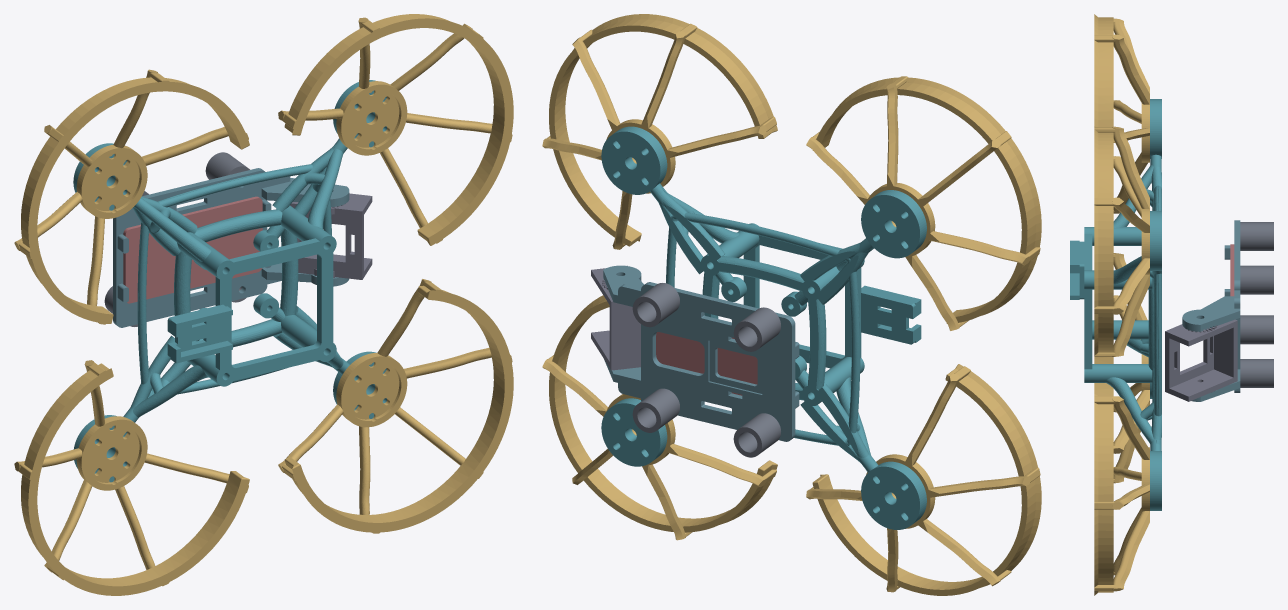
Rendered from Assembly.glb.
3 renders of one model, left to right at view 1: azimuth 30°, elevation 25°; view 2: azimuth 150°, elevation 25°; view 3: azimuth 270°, elevation 25°, orthographic. The views are drawn at different scales.
Visible parts, largest first — view 1: Frame_PETG, Guard_2_PETG, Guard_1_PETG, Guard_3_PETG, Guard_4_PETG, BottomPlate_PETG, BatteryPad_TPU, CameraCradle_TPU, Foot_4_TPU; view 2: Frame_PETG, BottomPlate_PETG, Guard_4_PETG, Guard_3_PETG, Guard_1_PETG, Guard_2_PETG, CameraCradle_TPU, BatteryPad_TPU, Foot_2_TPU, Foot_4_TPU, Foot_1_TPU, Foot_3_TPU; view 3: Frame_PETG, Guard_1_PETG, Guard_2_PETG, Guard_4_PETG, CameraCradle_TPU, BottomPlate_PETG, Guard_3_PETG, Foot_1_TPU, Foot_4_TPU, Foot_2_TPU, Foot_3_TPU.
Part boxes in pixels (x1=…): Frame_PETG: x1=73, y1=80, x2=386, y2=482; Guard_2_PETG: x1=278, y1=279, x2=513, y2=533; Guard_1_PETG: x1=278, y1=14, x2=513, y2=245; Guard_3_PETG: x1=14, y1=360, x2=249, y2=595; Guard_4_PETG: x1=14, y1=69, x2=249, y2=324; BottomPlate_PETG: x1=113, y1=168, x2=349, y2=327; BatteryPad_TPU: x1=123, y1=196, x2=262, y2=303; CameraCradle_TPU: x1=290, y1=193, x2=372, y2=279; Foot_4_TPU: x1=205, y1=152, x2=249, y2=179; Frame_PETG: x1=601, y1=126, x2=926, y2=529; BottomPlate_PETG: x1=603, y1=265, x2=799, y2=441; Guard_4_PETG: x1=806, y1=76, x2=1041, y2=330; Guard_3_PETG: x1=806, y1=364, x2=1041, y2=595; Guard_1_PETG: x1=542, y1=14, x2=777, y2=249; Guard_2_PETG: x1=542, y1=295, x2=777, y2=540; CameraCradle_TPU: x1=591, y1=265, x2=640, y2=370; BatteryPad_TPU: x1=656, y1=332, x2=757, y2=395; Foot_2_TPU: x1=733, y1=307, x2=780, y2=351; Foot_4_TPU: x1=632, y1=283, x2=679, y2=327; Foot_1_TPU: x1=733, y1=413, x2=780, y2=457; Foot_3_TPU: x1=632, y1=388, x2=679, y2=432; Frame_PETG: x1=1070, y1=99, x2=1161, y2=510; Guard_1_PETG: x1=1094, y1=126, x2=1149, y2=356; Guard_2_PETG: x1=1094, y1=393, x2=1149, y2=595; Guard_4_PETG: x1=1094, y1=14, x2=1149, y2=213; CameraCradle_TPU: x1=1165, y1=319, x2=1237, y2=401; BottomPlate_PETG: x1=1182, y1=220, x2=1240, y2=401; Guard_3_PETG: x1=1094, y1=253, x2=1149, y2=483; Foot_1_TPU: x1=1240, y1=315, x2=1273, y2=344; Foot_4_TPU: x1=1240, y1=265, x2=1273, y2=294; Foot_2_TPU: x1=1240, y1=222, x2=1273, y2=250; Foot_3_TPU: x1=1240, y1=359, x2=1273, y2=387.
Bounding box in the file's own units: 206 × 206 × 84.7.
